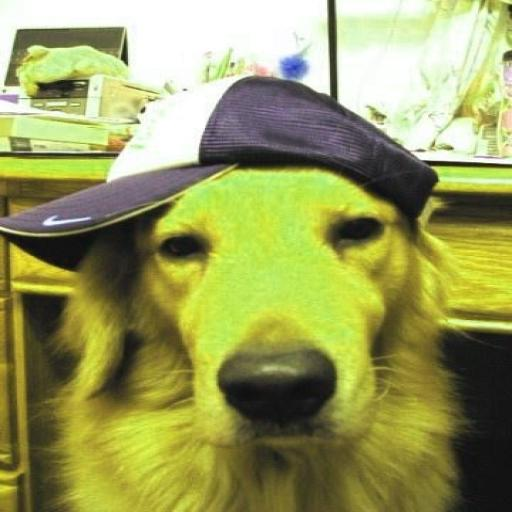dog_face: (105, 146, 421, 427)
